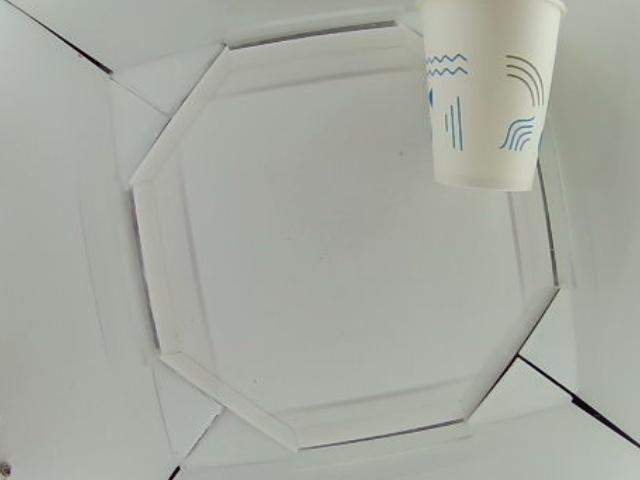Cup: (417, 1, 568, 194)
